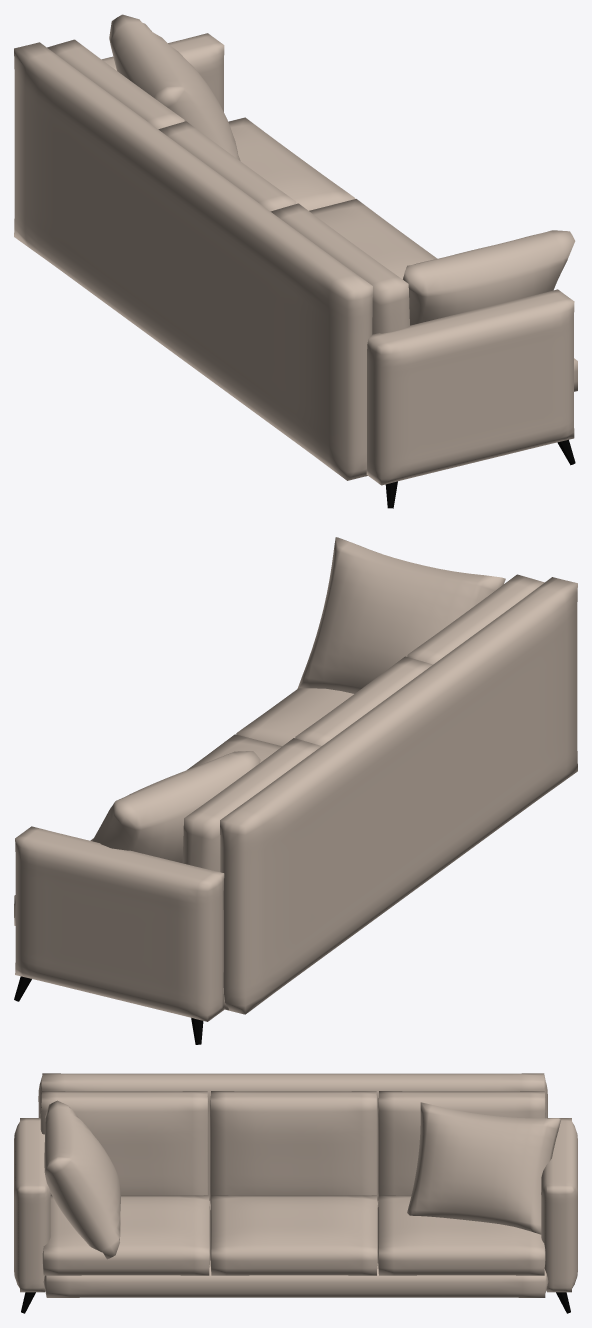
File: sofa.fbx
The picture shows the model from 3 angles, top to bottom: view 1: azimuth 30°, elevation 25°; view 2: azimuth 150°, elevation 25°; view 3: azimuth 270°, elevation 25°; orthographic projection. The views are drawn at different scales.
Parts seen in each view (by area): view 1: 큐브.002, 큐브, 큐브.006, 큐브.010, 큐브.009, 큐브.005, 큐브.004, 큐브.008, 큐브.007; view 2: 큐브.002, 큐브, 큐브.006, 큐브.010, 큐브.007, 큐브.003, 큐브.009, 큐브.008, 큐브.004; view 3: 큐브.008, 큐브.010, 큐브.004, 큐브.009, 큐브.001, 큐브, 큐브.003, 큐브.002, 큐브.005, 큐브.006, 큐브.007, 실린더.
Part boxes in pixels (x1,y1,x2,y2): 큐브.002: (14, 42, 372, 480); 큐브: (101, 33, 574, 485); 큐브.006: (403, 230, 575, 325); 큐브.010: (109, 14, 240, 160); 큐브.009: (270, 203, 409, 334); 큐브.005: (228, 117, 355, 210); 큐브.004: (309, 199, 437, 279); 큐브.008: (158, 121, 296, 211); 큐브.007: (47, 39, 184, 129); 큐브.002: (220, 577, 577, 1014); 큐브: (15, 826, 224, 1021); 큐브.006: (297, 537, 505, 693); 큐브.010: (92, 751, 260, 863); 큐브.007: (182, 738, 321, 871); 큐브.003: (236, 688, 353, 746); 큐브.009: (407, 574, 544, 664); 큐브.008: (295, 656, 432, 745); 큐브.004: (187, 734, 281, 769); 큐브.008: (210, 1091, 377, 1204); 큐브.010: (407, 1102, 561, 1234); 큐브.004: (210, 1195, 377, 1275); 큐브.009: (40, 1091, 208, 1195); 큐브.001: (43, 1200, 548, 1297); 큐브: (14, 1118, 577, 1292); 큐브.003: (42, 1195, 210, 1275); 큐브.002: (38, 1073, 547, 1200); 큐브.005: (378, 1195, 545, 1275); 큐브.006: (44, 1100, 120, 1259); 큐브.007: (378, 1091, 545, 1201); 실린더: (21, 1292, 570, 1313).
Size of the model in its own units: 9.28 by 8.07 by 25.2.
